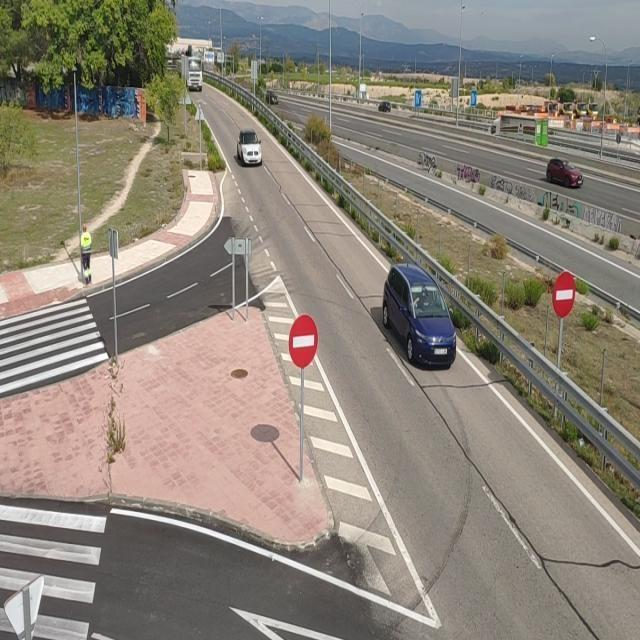Car: (379, 255, 458, 369), (546, 156, 586, 189), (237, 129, 264, 166)
Truck: (180, 55, 204, 93)
